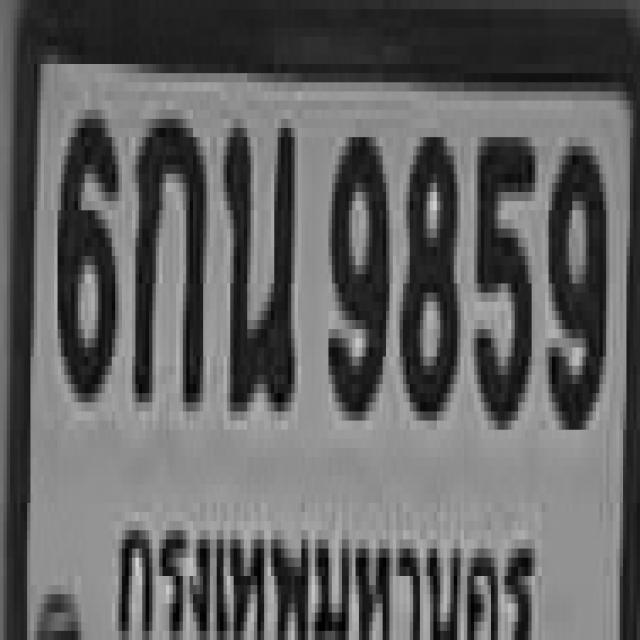10GorGai: (132, 110, 203, 402)
34NorNu: (220, 114, 291, 407)
5: (471, 128, 532, 421)
6: (54, 101, 115, 393)
8: (399, 128, 454, 411)
9: (325, 128, 386, 411), (545, 137, 603, 421)
Bangkok: (112, 509, 546, 640)
